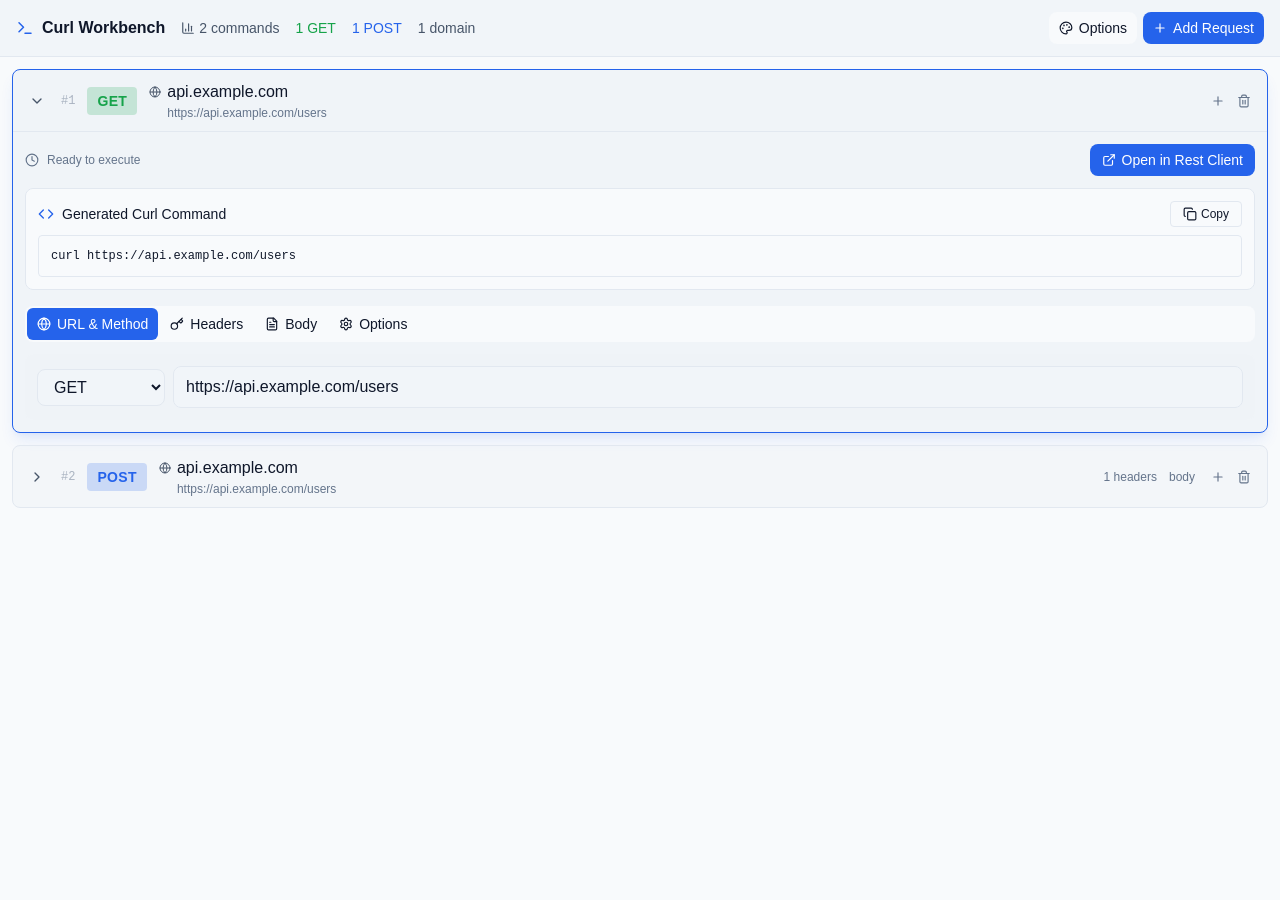
Test: CurlSmartView › should toggle options palette
Find the Options button by its title attribute to distinguish from other "Options" text
Click the button titled "Toggle options palette" in the row of "domain" at x=1093, y=28, box [1049,12,1137,44]
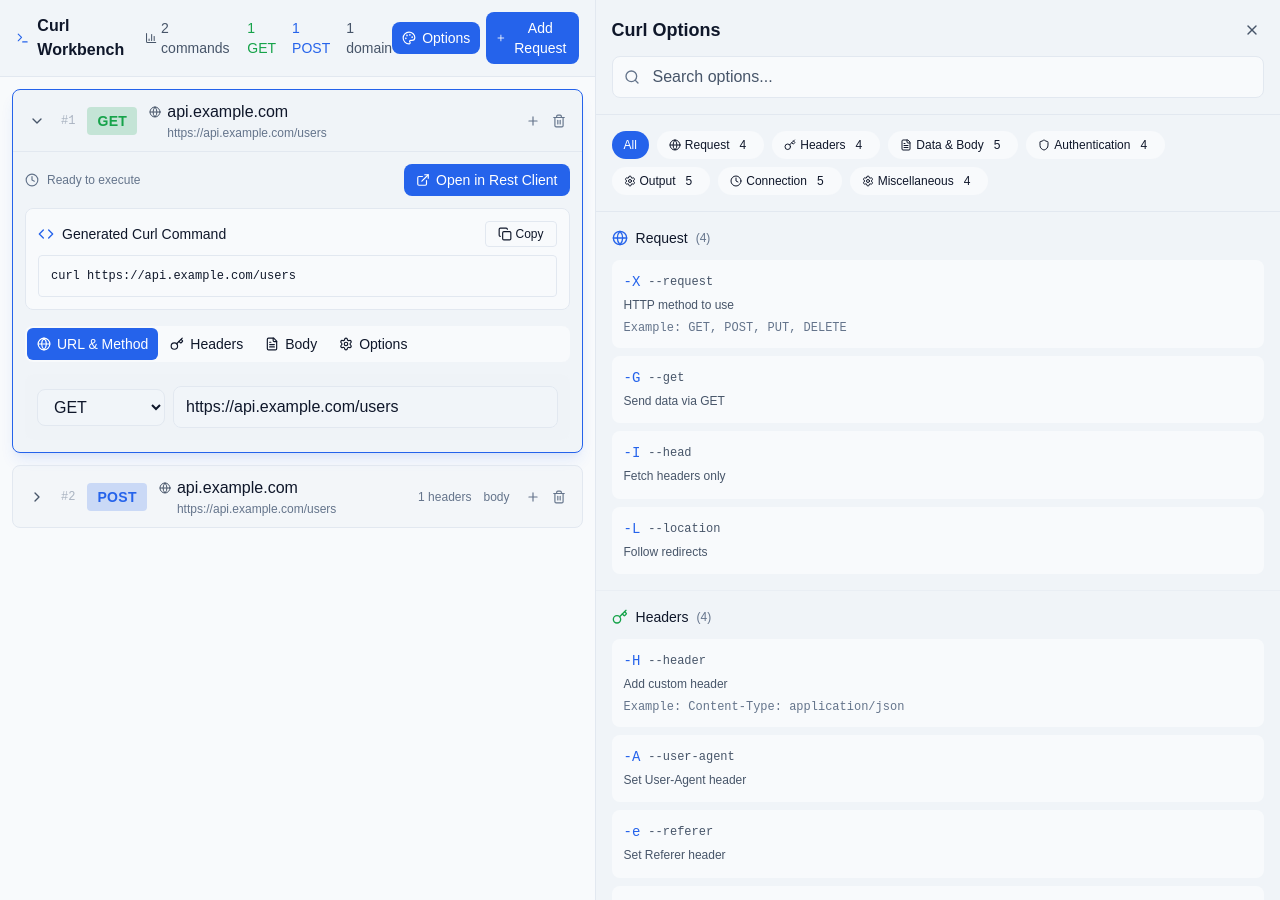
Result: the heading "Curl Options" is shown at [612,16,720,44]
